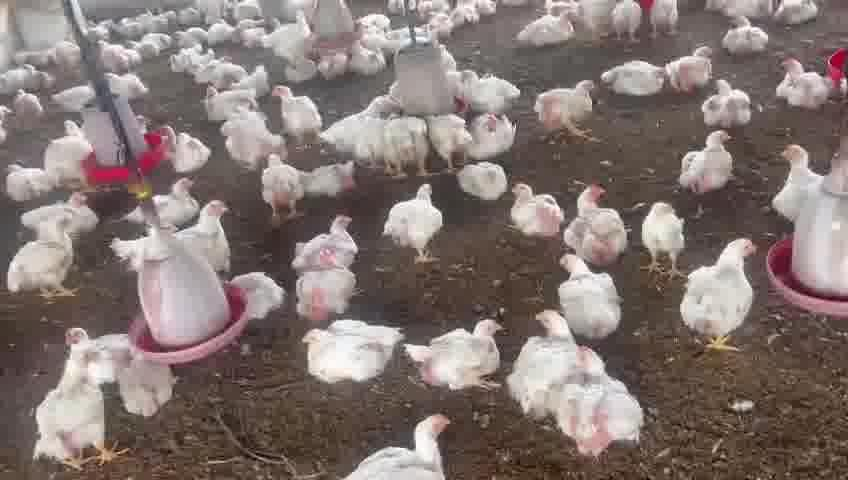AbNormal: (289, 158, 364, 202)
Normal: (541, 344, 653, 459), (23, 350, 126, 466), (295, 302, 429, 390), (684, 240, 759, 356), (340, 411, 465, 480), (404, 316, 513, 393), (10, 214, 85, 304), (519, 301, 579, 411), (560, 180, 625, 265), (622, 202, 692, 280), (288, 251, 356, 323), (389, 182, 445, 268), (175, 199, 245, 266), (695, 69, 758, 141), (674, 130, 736, 200), (295, 220, 360, 281), (504, 176, 565, 240), (542, 74, 602, 139), (464, 112, 526, 170), (776, 54, 835, 114), (214, 104, 281, 154), (249, 156, 303, 216), (384, 116, 430, 186), (591, 57, 665, 100), (269, 84, 324, 139), (29, 191, 100, 233), (150, 174, 199, 218), (455, 160, 506, 202)
